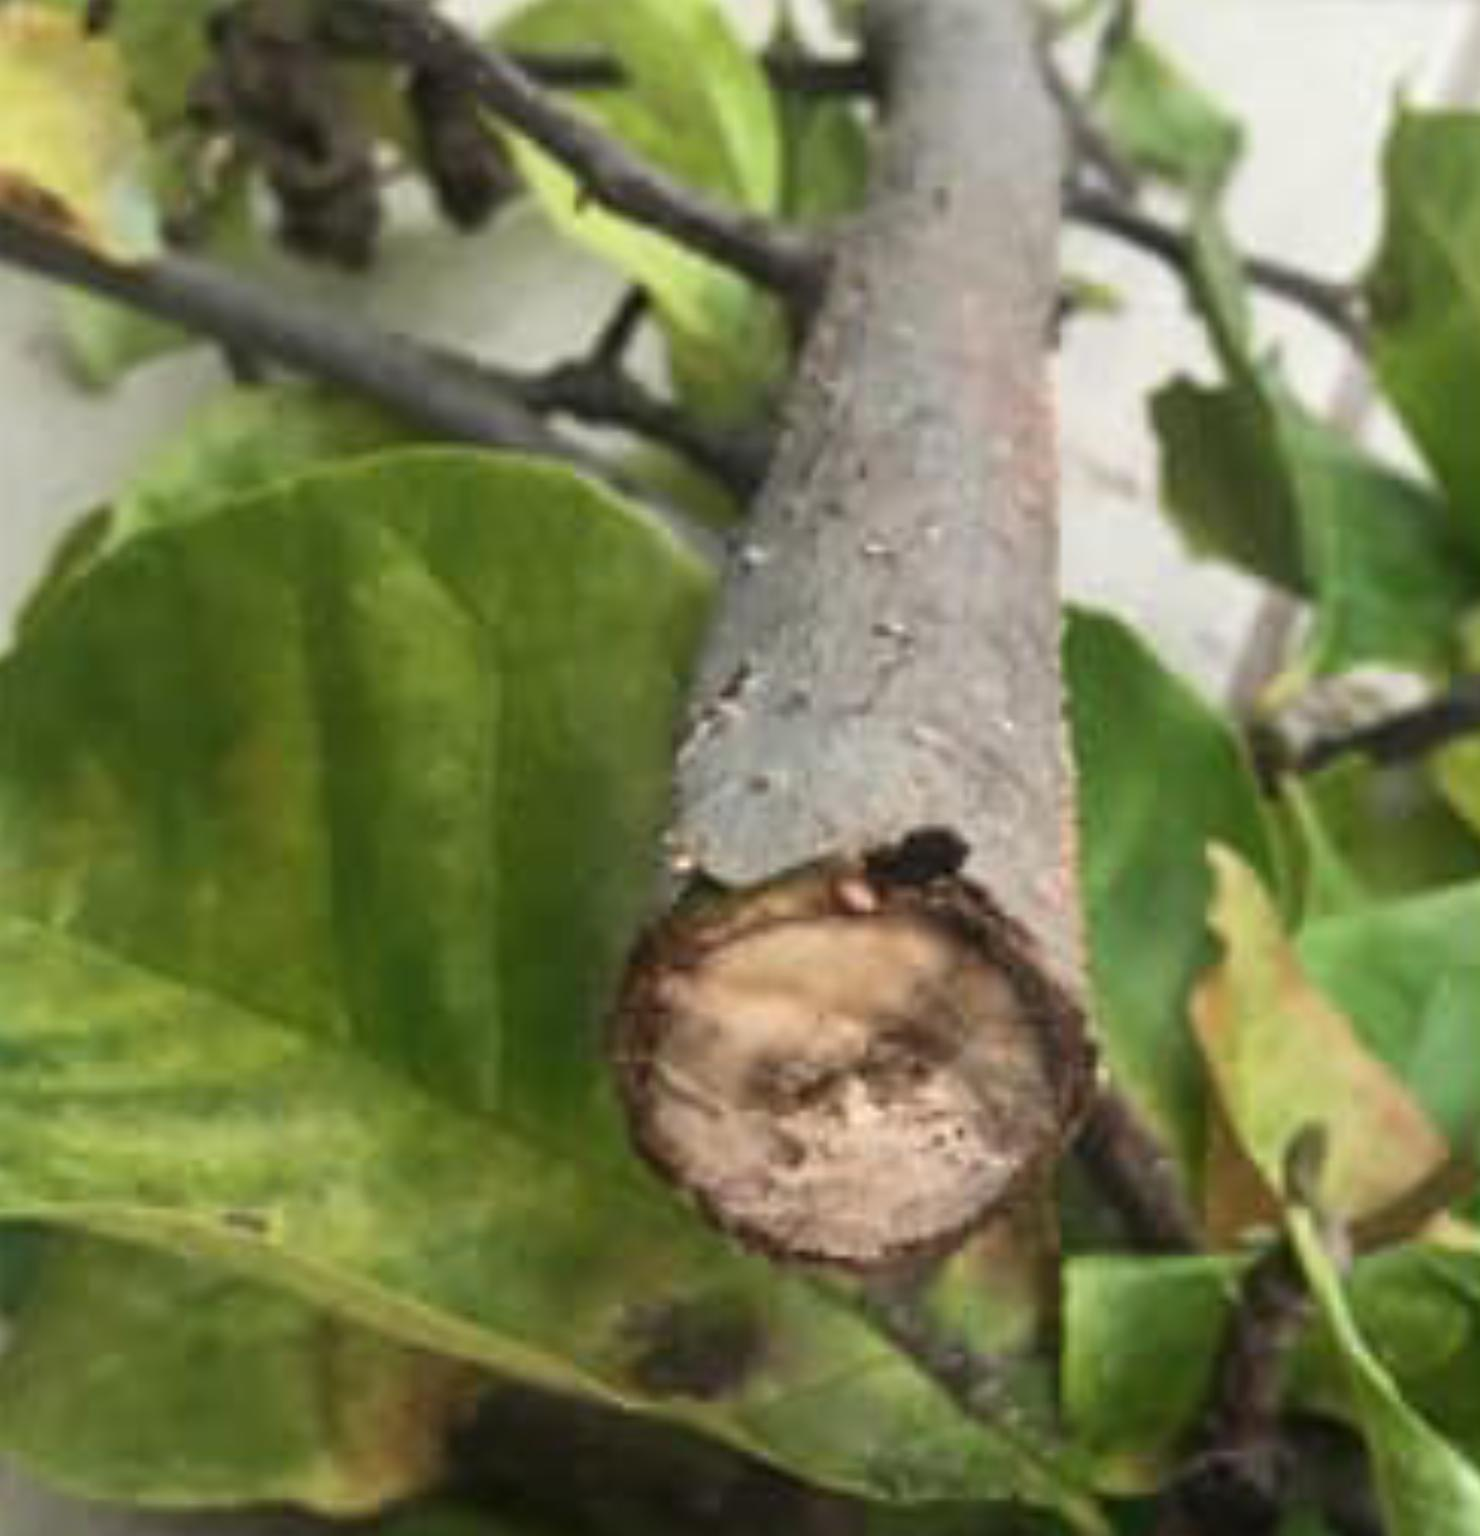Verticillium wilt: (752, 1008, 962, 1116)
